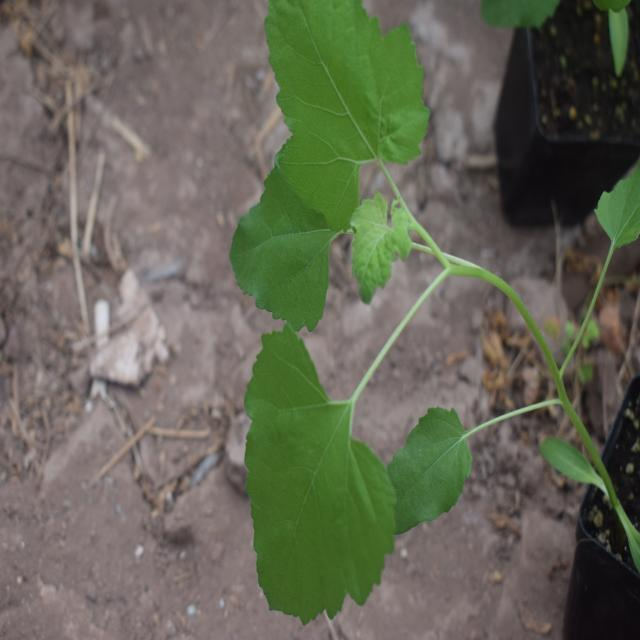cocklebur: (167, 14, 528, 583)
